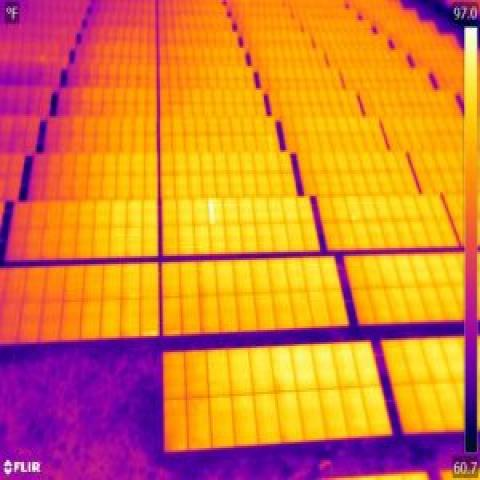fault: (208, 198, 214, 222)
